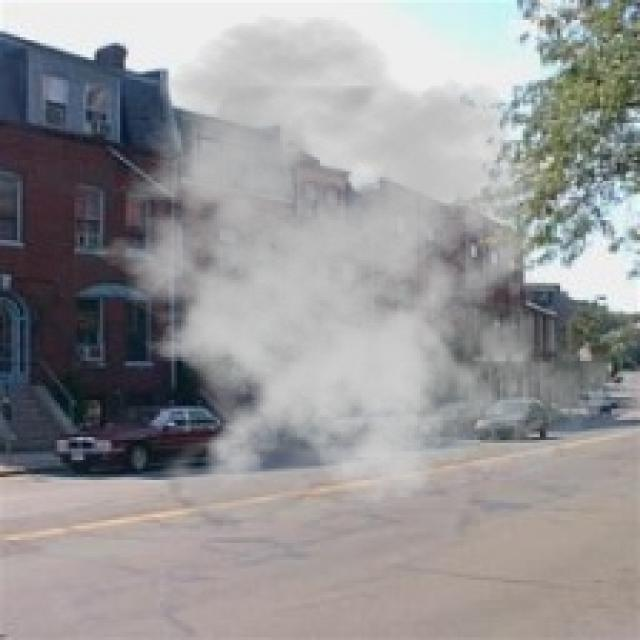smoke: (71, 14, 612, 537)
